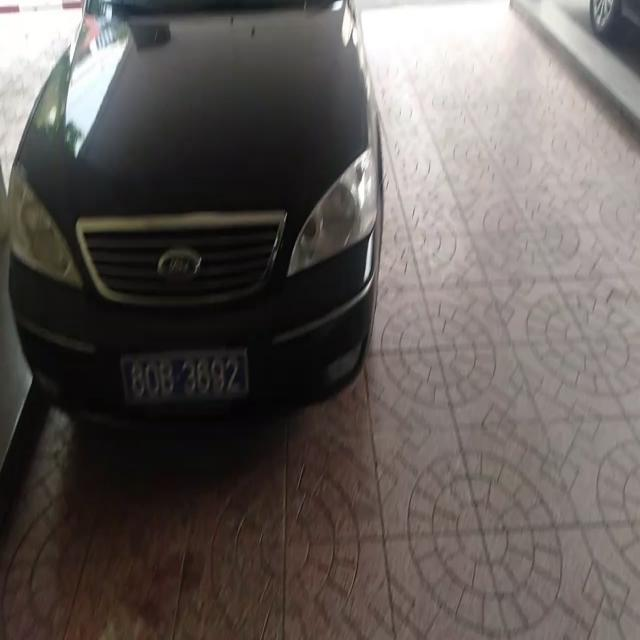bien_xanh: (126, 345, 247, 403)
